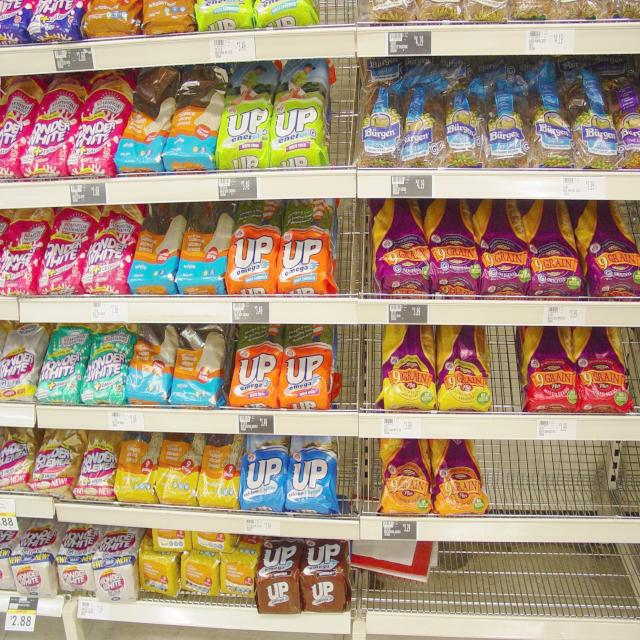empty_space: (447, 547, 635, 609), (495, 458, 633, 512), (336, 63, 360, 169), (344, 334, 376, 402), (342, 442, 374, 498), (345, 219, 367, 293), (326, 0, 362, 22)
